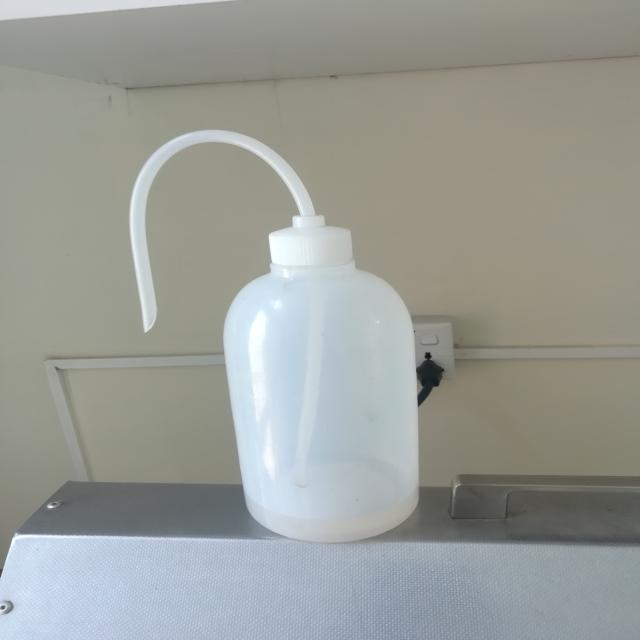Wash_Bottle: (89, 102, 468, 568)
